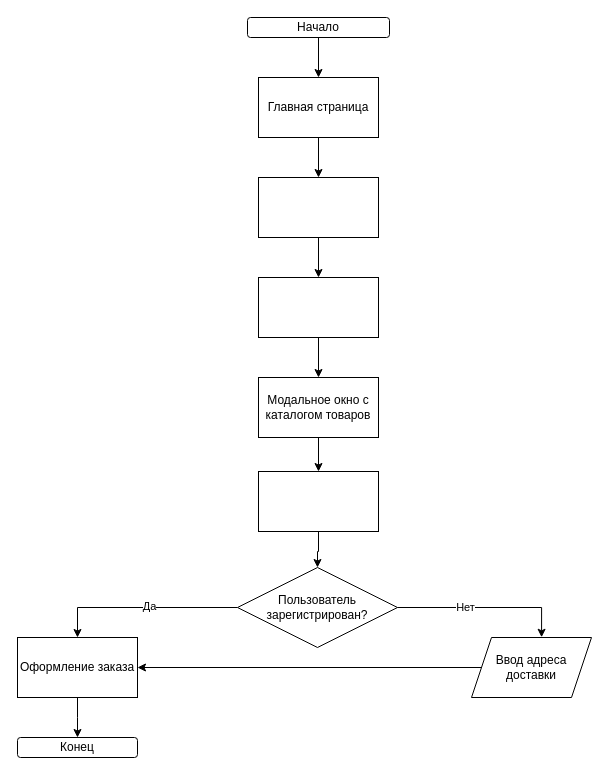
The diagram is 609 pixels wide and 775 high, and some of its shapes have lost their labels. The shapes that lost their labels are listed below. From the top down, each one's centre as x and y in pixels, then its label:
[318,207]: Кнопка сделать заказ
[318,307]: Кнопка "Заказать доставку"
[318,501]: Кнопка "В корзину"
